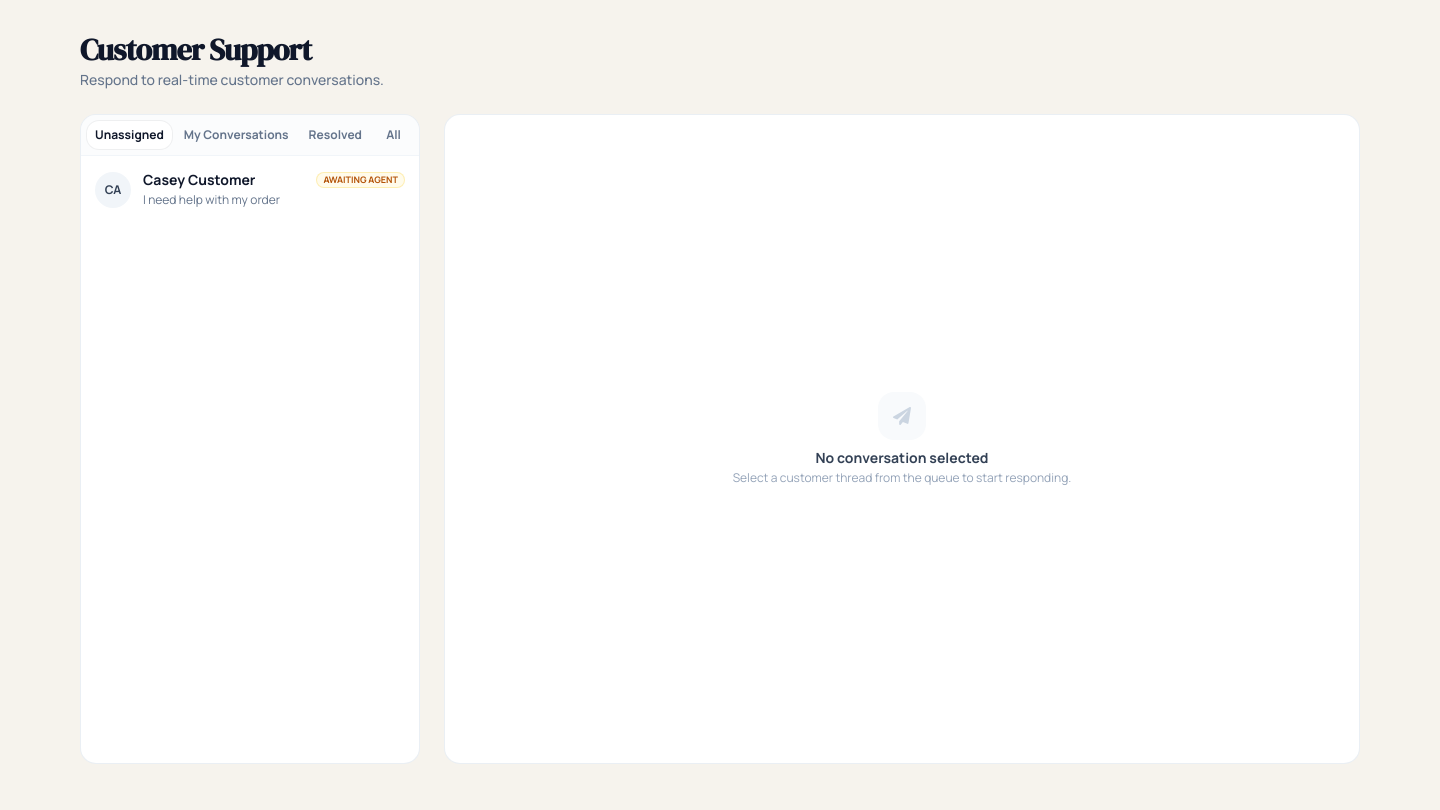
AdminSupport Component › opens a conversation thread and shows its messages
Click the text "Casey Customer" at (199, 180), box [143,170,255,190]
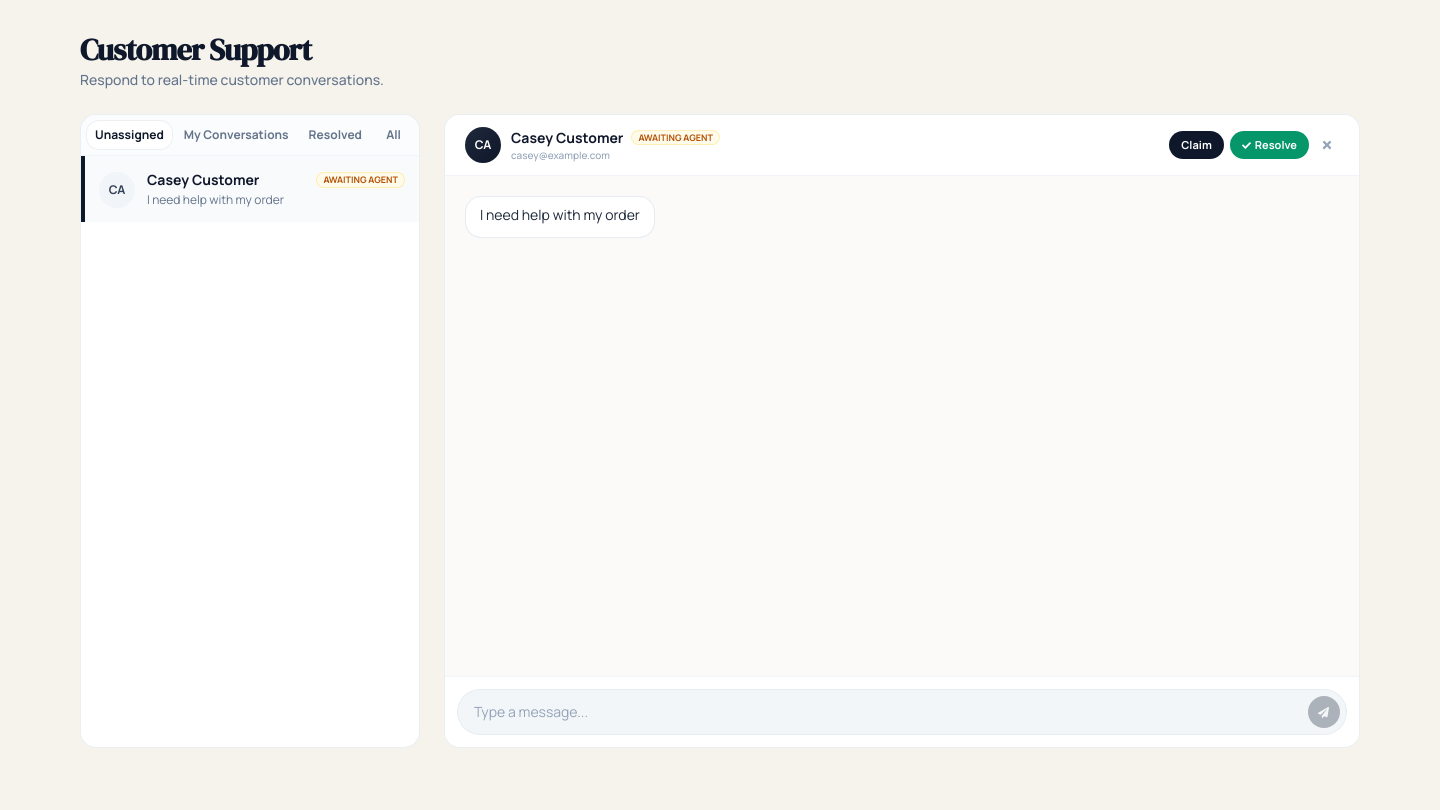
Expected: the 1st text "I need help with my order" is shown, [147,191,284,208]
Result: the field with placeholder "Type a message..." is shown at [474,702,1300,722]
